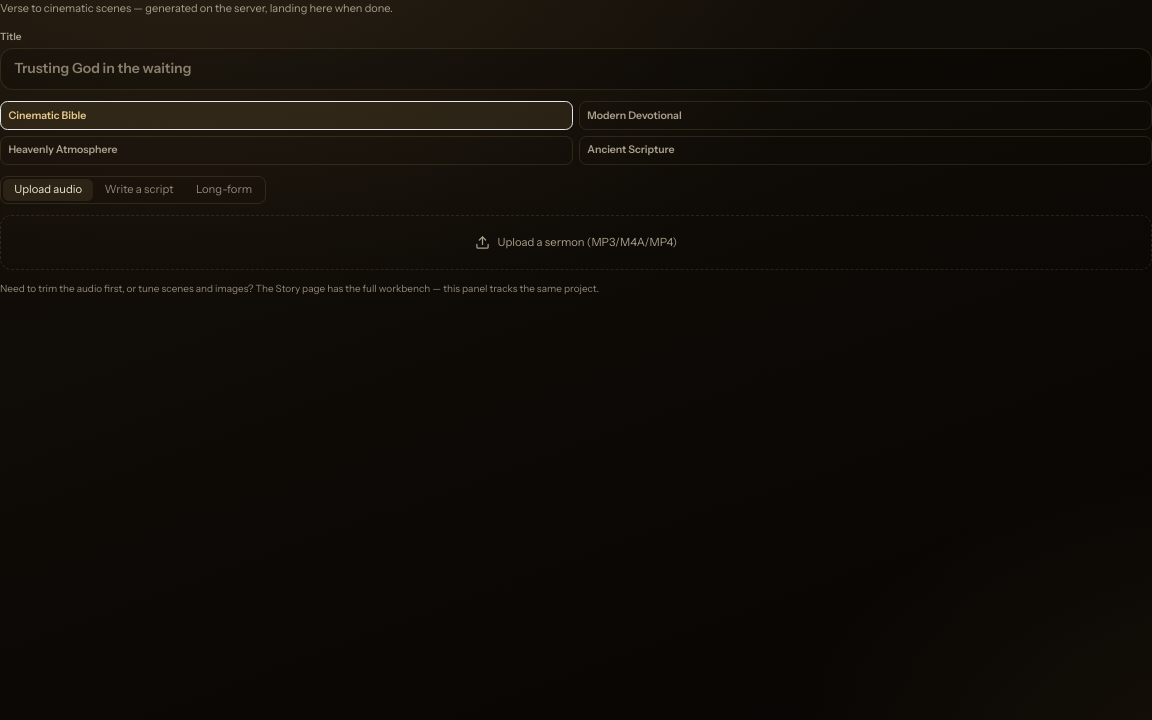
Test: StoryQuickPanel › offers a Long-form entry mode in the editor, sharing the Story page's drafting flow
Click the button "Long-form" at [224, 190], box [185,179,263,201]
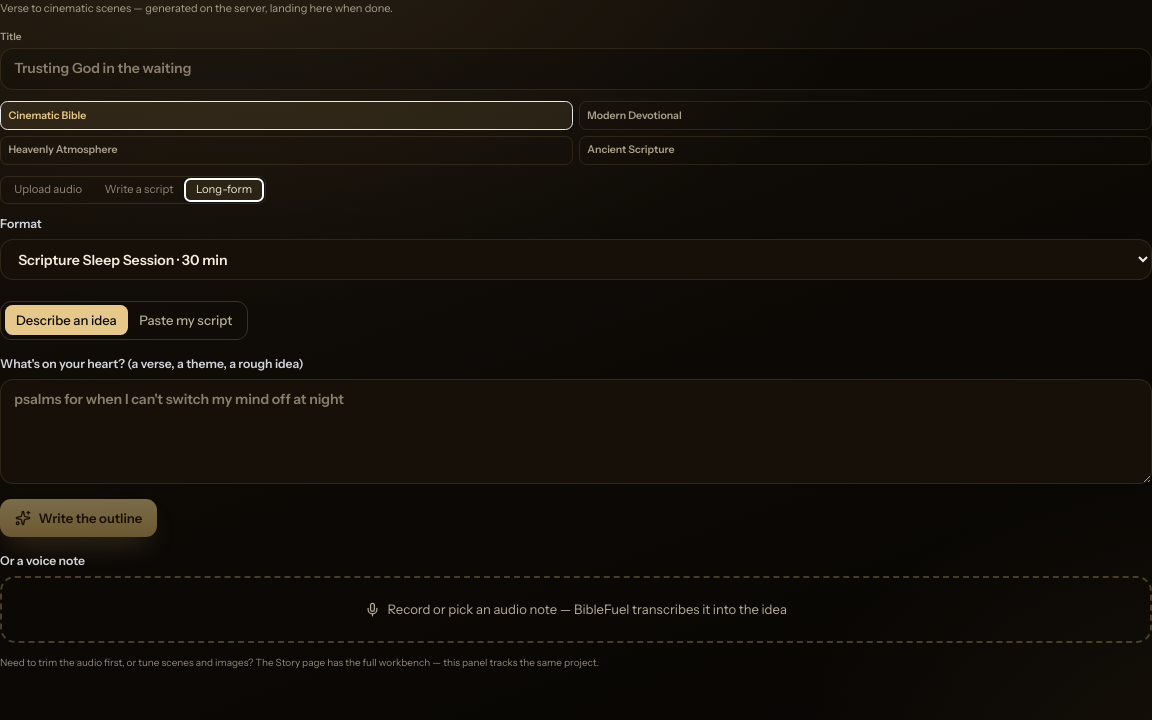
Type "psalms for when I can't sleep" into the text box labelled "What's on your heart? (a verse, a theme, a rough idea)" at [576, 432], box [0,379,1151,484]
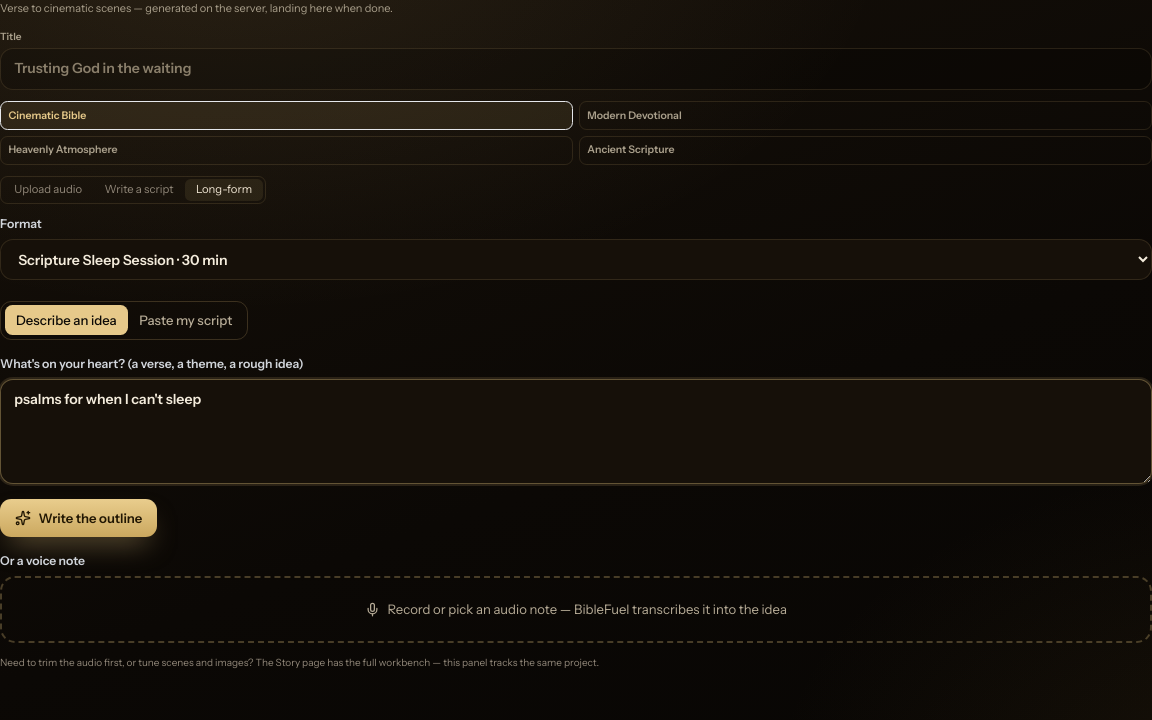
Click the button "Write the outline" at [79, 518], box [0,499,157,537]
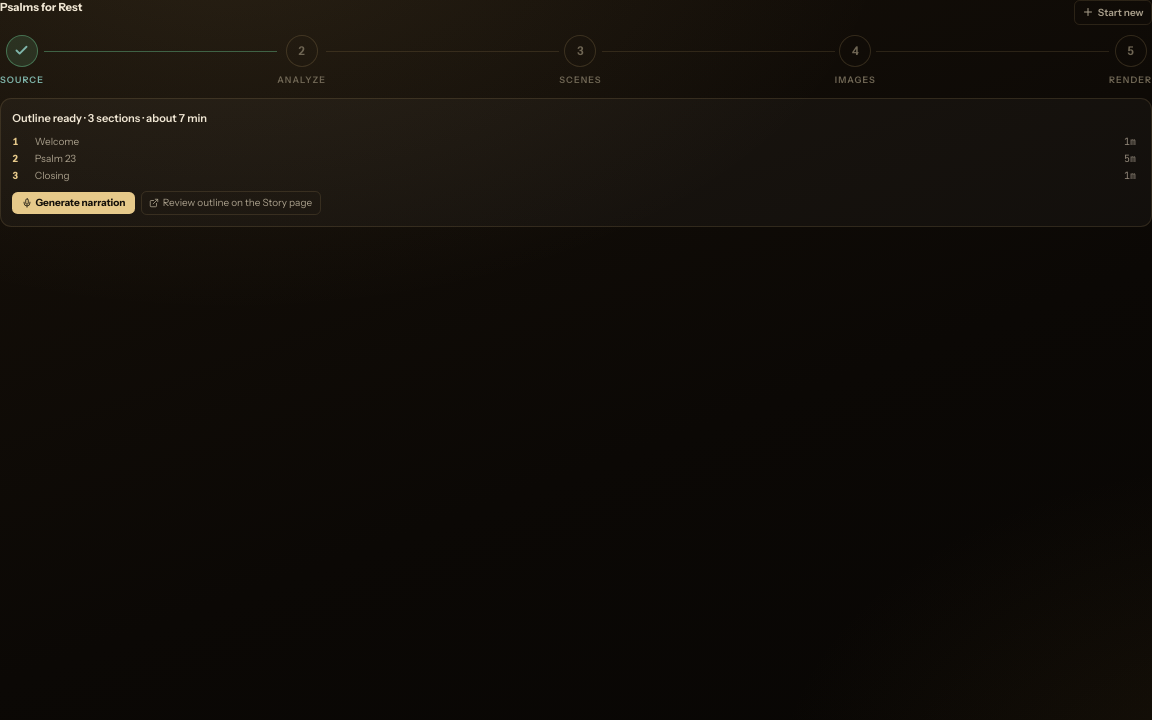
Expected: the text "Psalms for Rest" is shown, [0,0,82,15]
